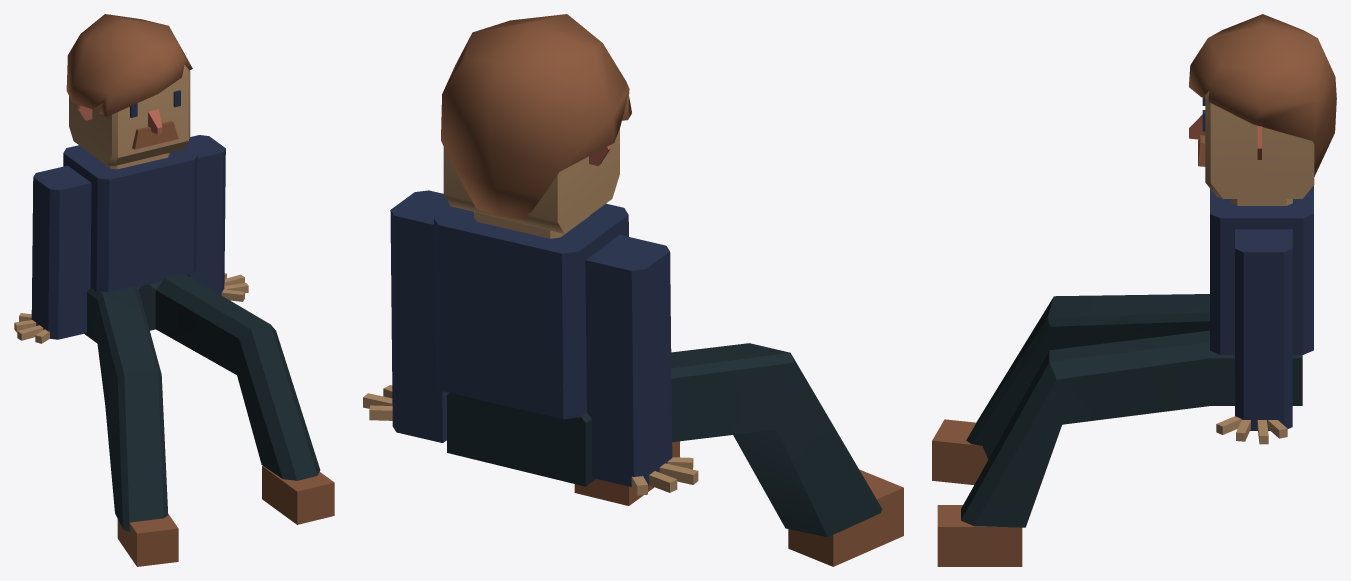
Rendered from papa.fbx.
3 views of the same model, side by side, from view 1: azimuth 30°, elevation 25°; view 2: azimuth 150°, elevation 25°; view 3: azimuth 270°, elevation 25° (orthographic). The views are drawn at different scales.
Visible parts, largest first — view 1: pCube9, pCube7, pCube3, pCube1, pCube10, pCube11, pCube16, group3; view 2: pCube7, pCube9, pCube3, pCube1, pCube11, pCube10, pCube8, group3; view 3: pCube9, pCube7, pCube3, pCube1, pCube10, pCube11, group3.
Boxes of the visible parts, x1,y1,x2,y2 form: pCube9: [84, 273, 320, 532]; pCube7: [31, 135, 225, 339]; pCube3: [66, 14, 192, 116]; pCube1: [69, 65, 190, 166]; pCube10: [262, 466, 334, 524]; pCube11: [117, 514, 178, 566]; pCube16: [132, 121, 178, 149]; group3: [221, 273, 248, 301]; pCube7: [390, 190, 672, 486]; pCube9: [447, 343, 882, 537]; pCube3: [441, 14, 631, 219]; pCube1: [443, 128, 619, 233]; pCube11: [788, 469, 903, 566]; pCube10: [574, 441, 679, 505]; pCube8: [474, 212, 589, 238]; group3: [363, 385, 392, 420]; pCube9: [961, 294, 1302, 527]; pCube7: [1210, 185, 1313, 430]; pCube3: [1189, 14, 1336, 176]; pCube1: [1205, 90, 1314, 198]; pCube10: [937, 505, 1022, 566]; pCube11: [932, 419, 988, 484]; group3: [1216, 416, 1287, 444].
Size of the model in its own units: 0.1663 by 0.28 by 0.2029.
